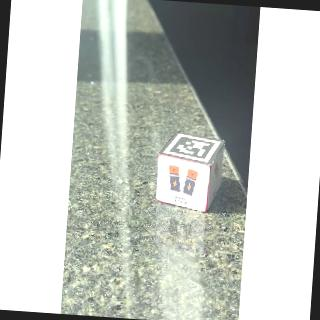Used_Battery: (145, 160, 213, 214)
